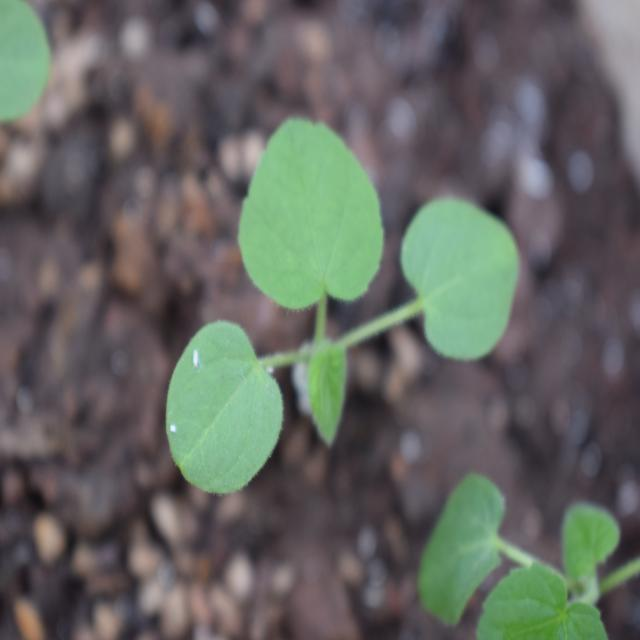abutilon theophrasti: (151, 117, 517, 492)
